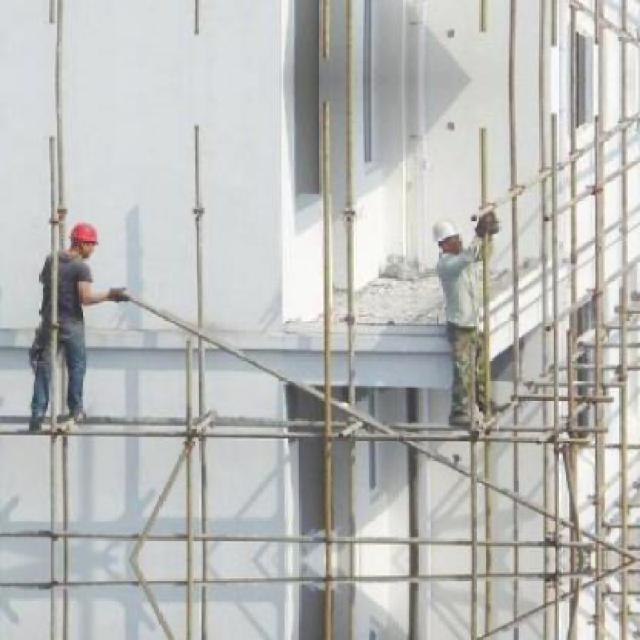con casco: (419, 206, 509, 272), (34, 219, 138, 274)
